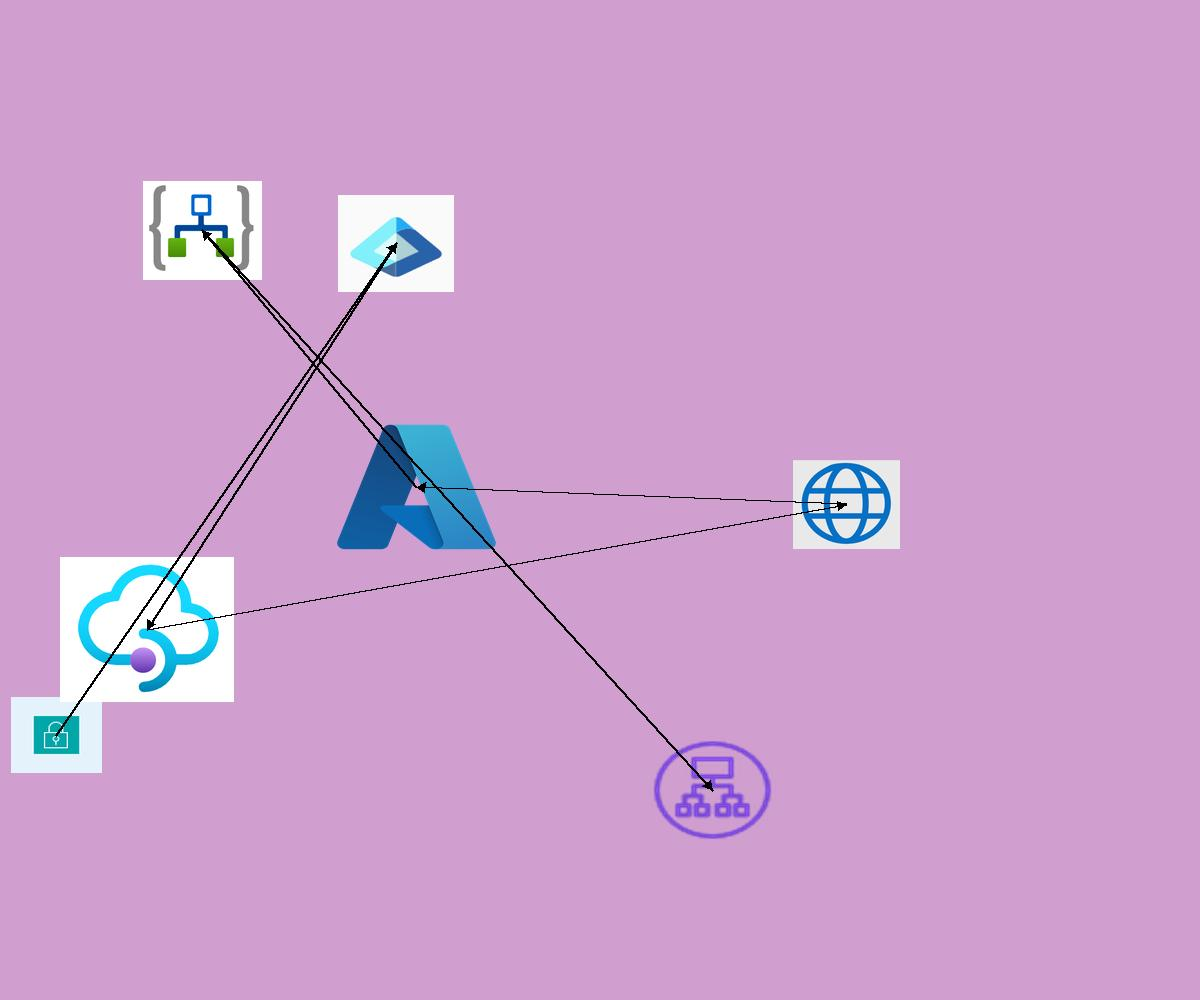AWS-Private-subnet: (11, 697, 102, 773)
AWS-Res_Elastic-Load-Balancing_Application-Load-Balancer: (649, 737, 776, 843)
Azure_api_gateway: (60, 557, 234, 702)
Azure_http: (793, 460, 900, 549)
Azure_integration-204-Logic-Apps: (143, 181, 262, 280)
Azure_microsoft_entra: (338, 195, 454, 292)
Azure_services: (330, 415, 503, 559)
